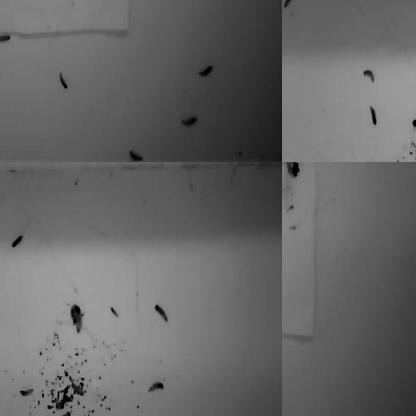PtecticusTenebrifer: (153, 304, 169, 324), (127, 149, 146, 162), (59, 70, 69, 91), (10, 233, 24, 248), (147, 381, 164, 392), (199, 66, 214, 78), (369, 106, 378, 126), (76, 307, 82, 333), (364, 69, 375, 83), (181, 117, 199, 125), (0, 33, 12, 45), (0, 379, 5, 403), (168, 0, 181, 9), (72, 303, 77, 325), (0, 173, 4, 197), (0, 147, 7, 160), (283, 0, 294, 8), (55, 411, 72, 416), (282, 251, 289, 263), (282, 252, 286, 272), (270, 0, 282, 5)
